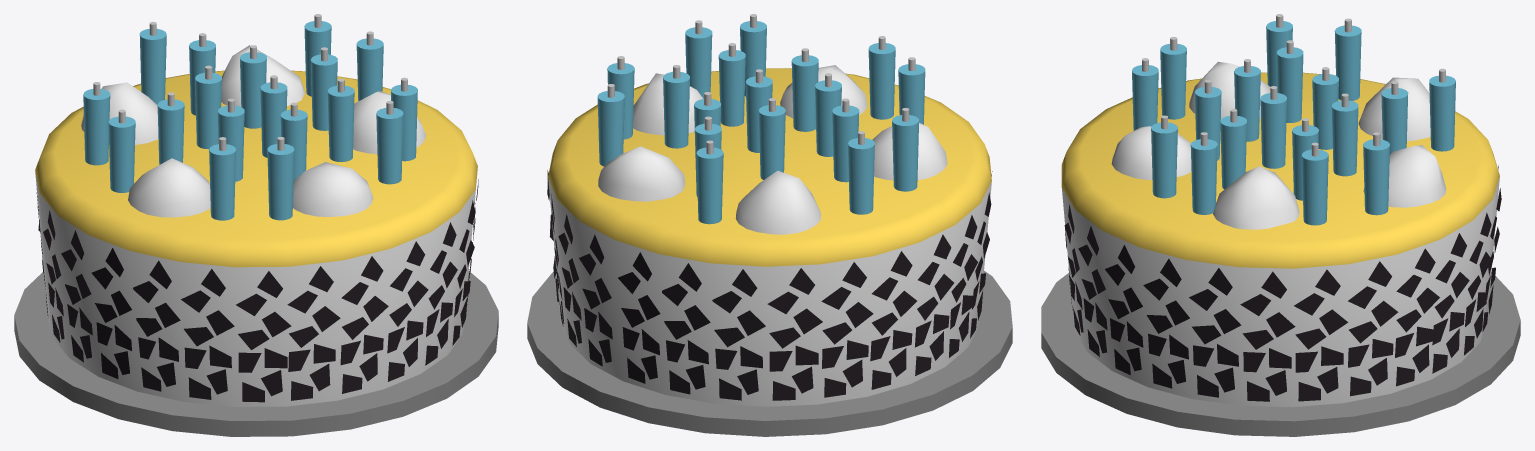
File: Cake.fbx
The picture shows the model from 3 angles, left to right: view 1: azimuth 30°, elevation 25°; view 2: azimuth 150°, elevation 25°; view 3: azimuth 270°, elevation 25°; orthographic projection.
Parts seen in each view (by area): view 1: Cake; view 2: Cake; view 3: Cake.
Part boxes in pixels (left/top/right/bottom): Cake: left=14, top=14, right=498, bottom=436; Cake: left=527, top=14, right=1012, bottom=436; Cake: left=1041, top=14, right=1520, bottom=436.
Bounding box in the file's own units: 98.34 × 57.56 × 98.15.
